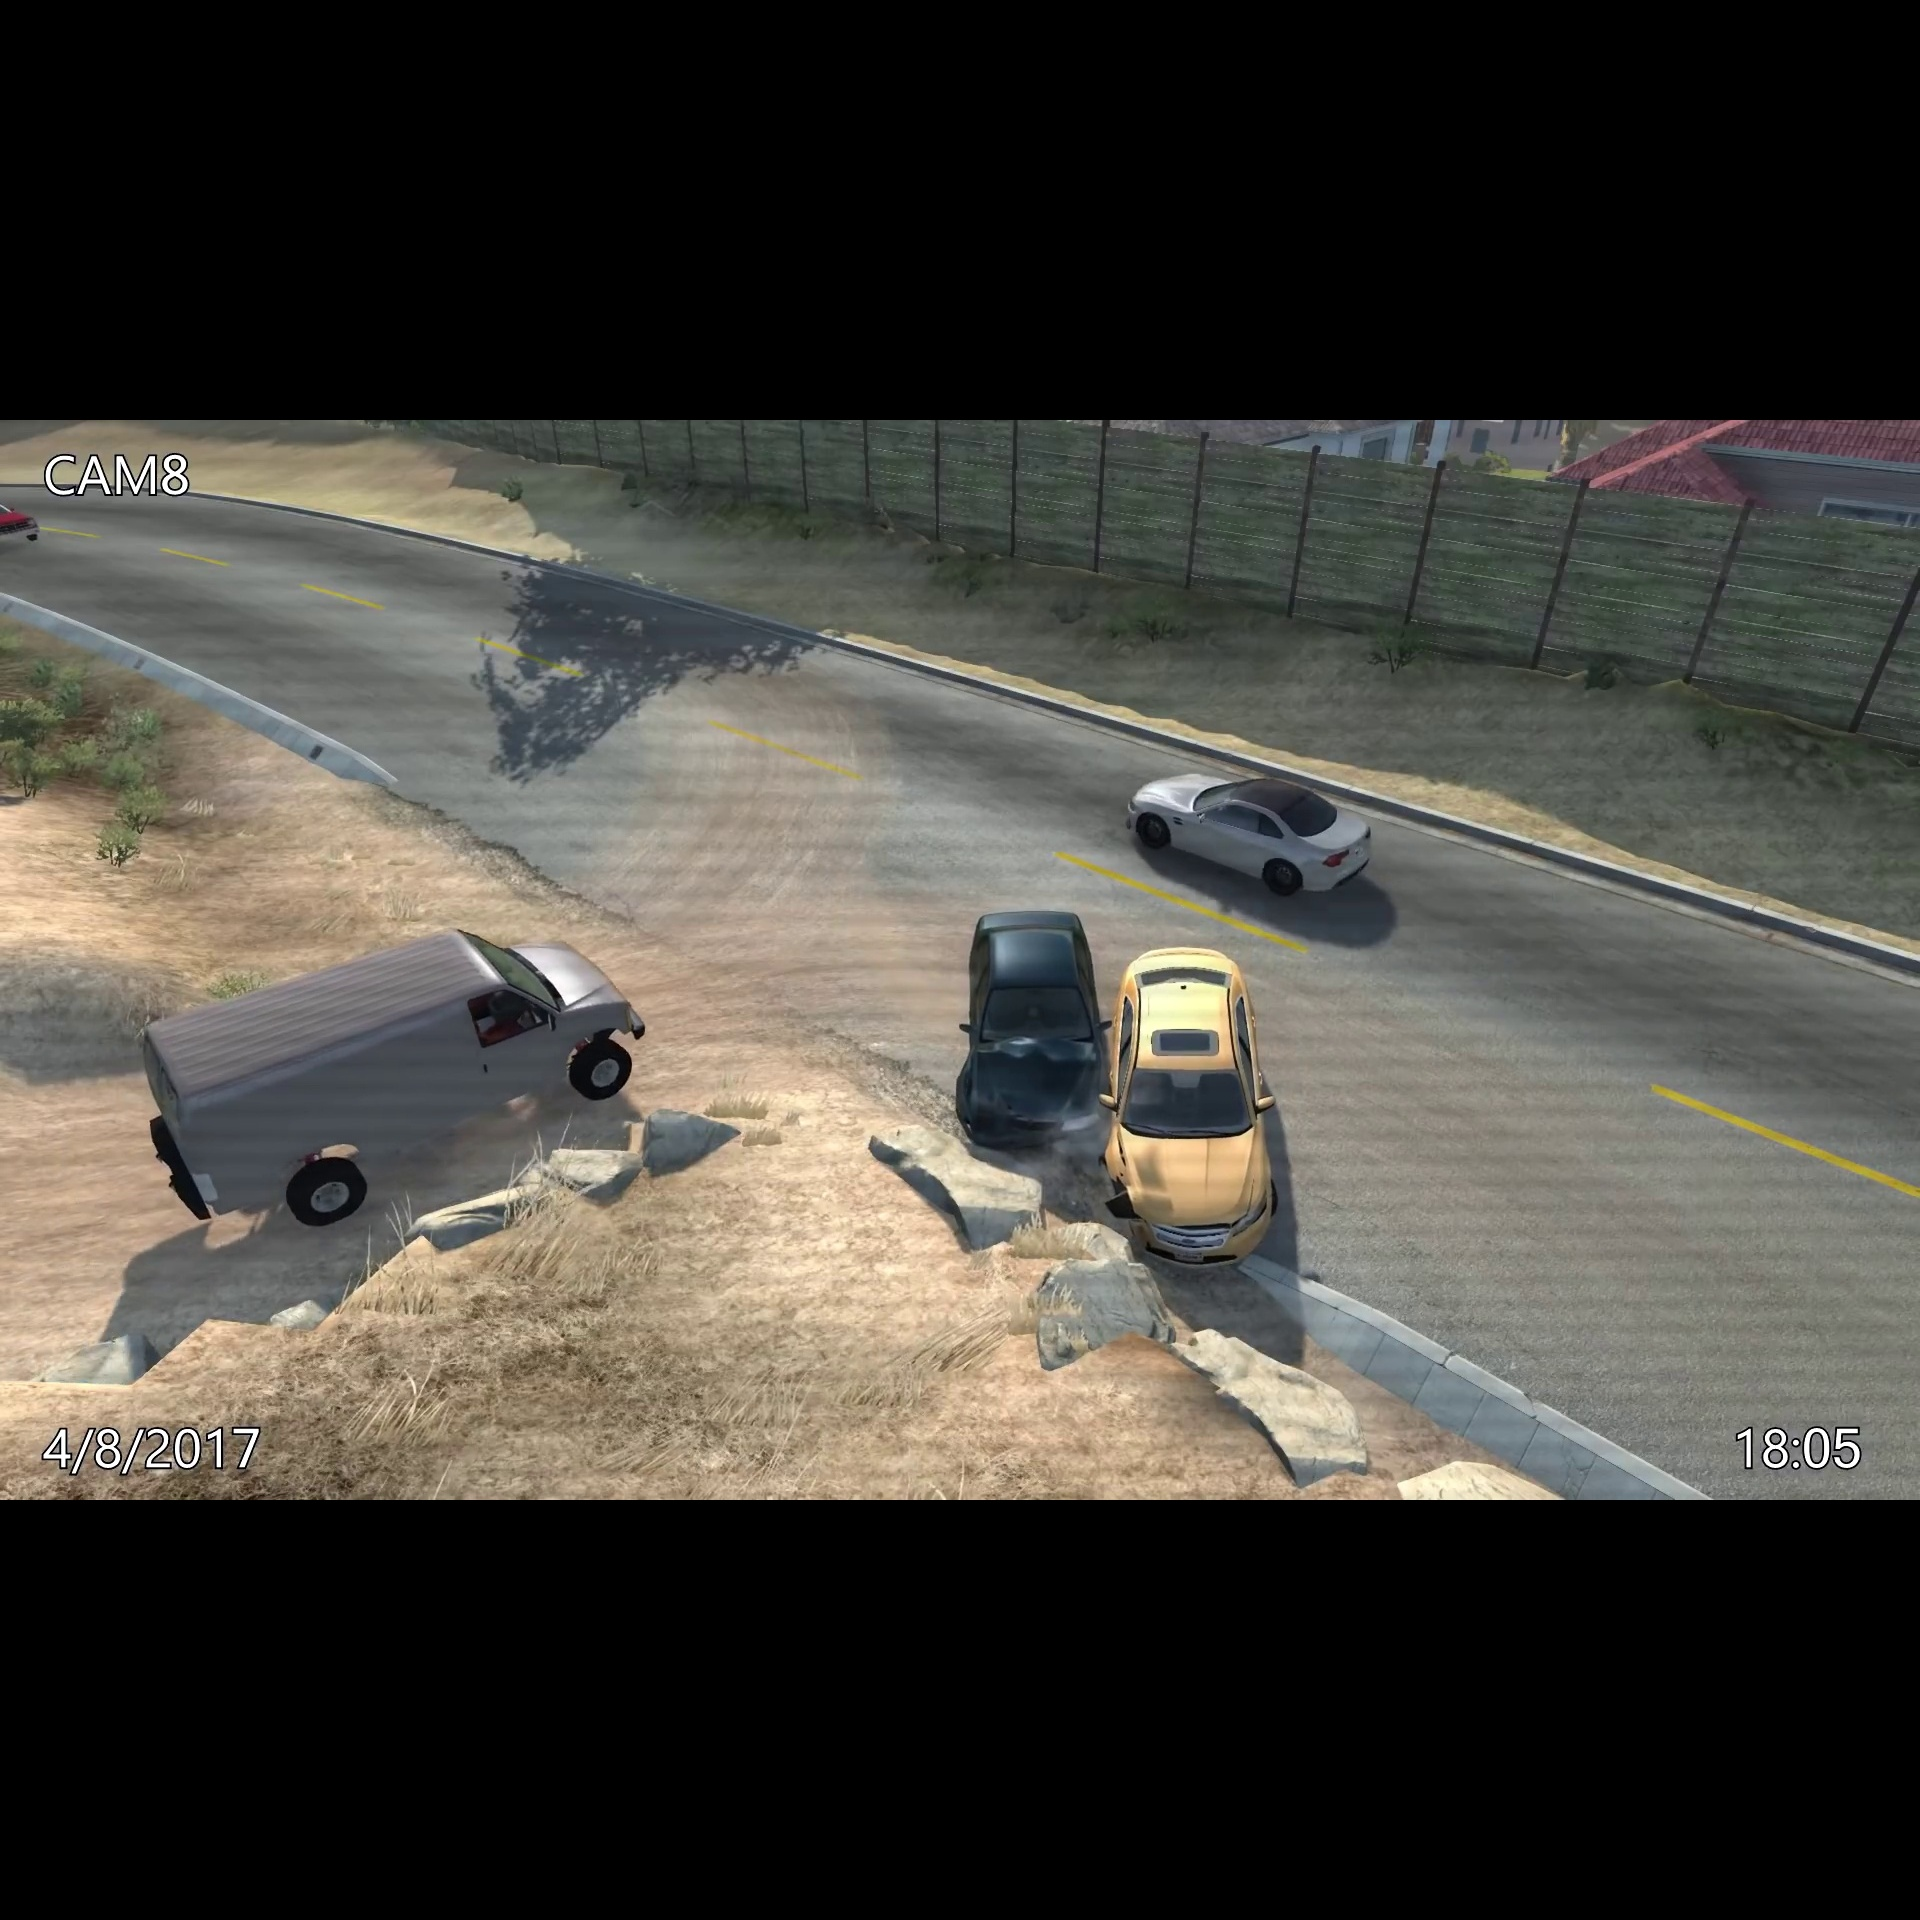vehicle: (132, 914, 658, 1225), (1102, 941, 1285, 1275), (953, 895, 1116, 1166), (1120, 758, 1384, 905)
